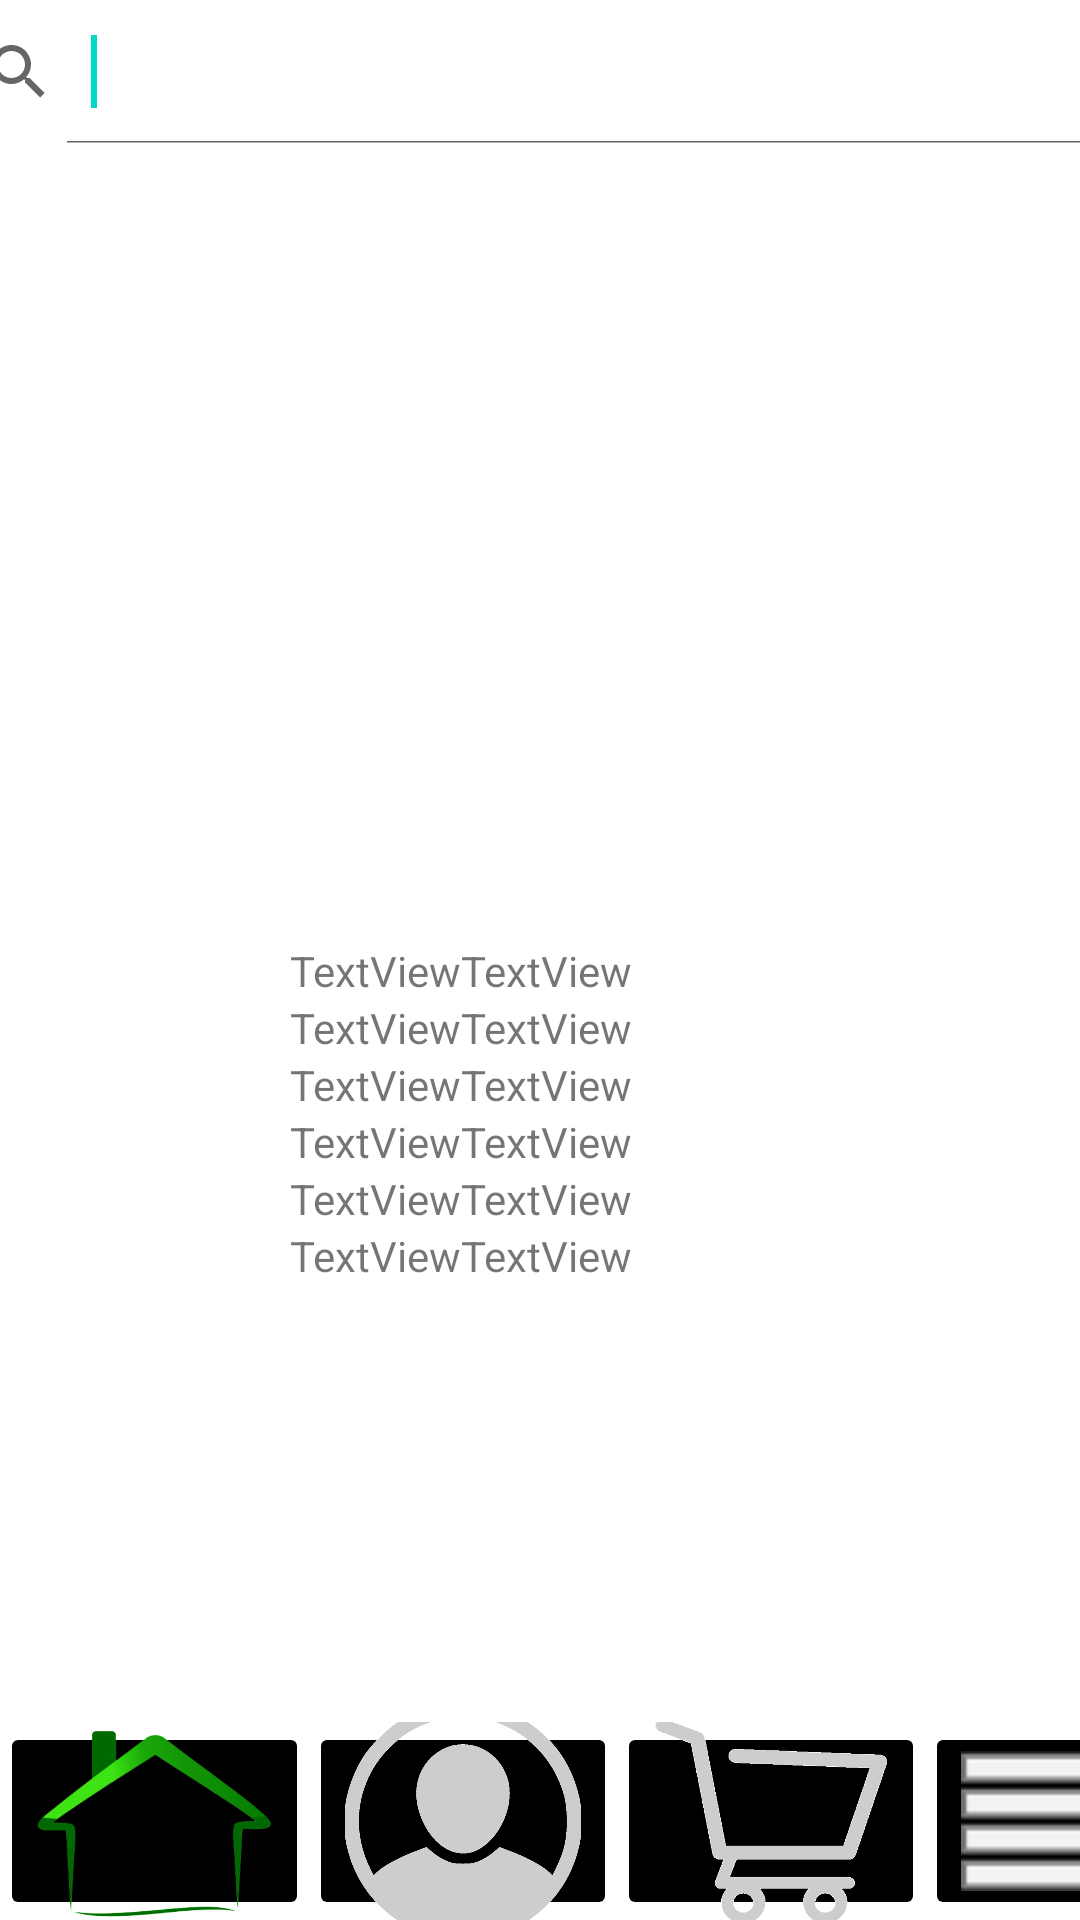

Named icons in this screenshot (1080×1920) and their bounding boxes, (x1, y1, x2, y2):
home: (12, 1731, 297, 1917)
store: (629, 1722, 913, 1920)
user: (321, 1722, 605, 1920)
